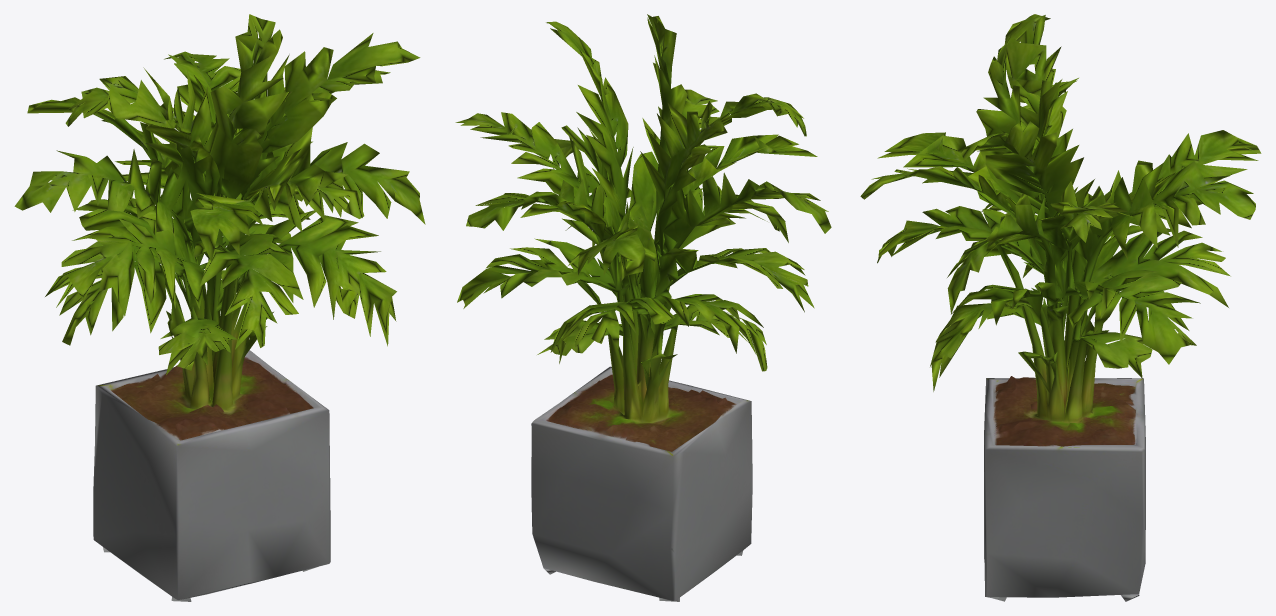
The model's file is plant_palm.glb.
3 renders of one model, left to right at view 1: azimuth 30°, elevation 25°; view 2: azimuth 150°, elevation 25°; view 3: azimuth 270°, elevation 25°, orthographic. The views are drawn at different scales.
Parts seen in each view (by area): view 1: tripo_node_ae32c96c-465e-4ed3-993d-7f7763dfe387; view 2: tripo_node_ae32c96c-465e-4ed3-993d-7f7763dfe387; view 3: tripo_node_ae32c96c-465e-4ed3-993d-7f7763dfe387.
Boxes of the visible parts, x1=… form: tripo_node_ae32c96c-465e-4ed3-993d-7f7763dfe387: x1=14, y1=14, x2=425, y2=601; tripo_node_ae32c96c-465e-4ed3-993d-7f7763dfe387: x1=455, y1=14, x2=831, y2=601; tripo_node_ae32c96c-465e-4ed3-993d-7f7763dfe387: x1=860, y1=14, x2=1261, y2=601.
Size of the model in its own units: 0.7193 by 1 by 0.6738.
1 material, 1 textured.
